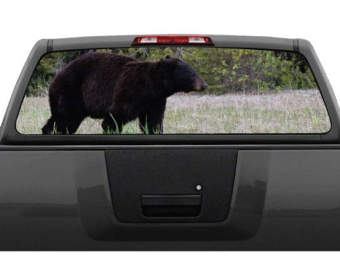bear: (40, 52, 214, 136)
